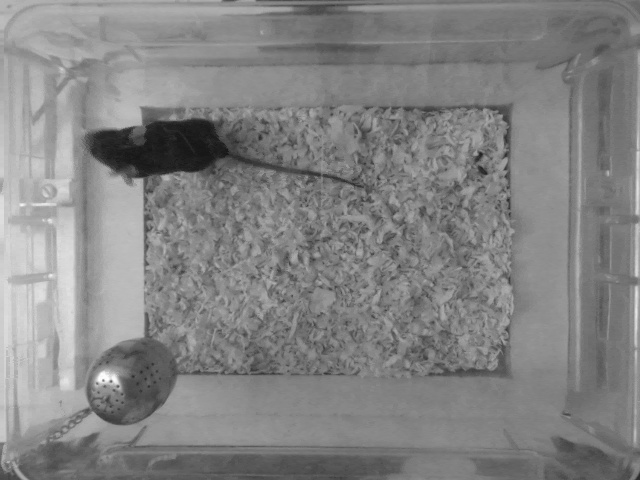mice: (85, 112, 361, 188)
